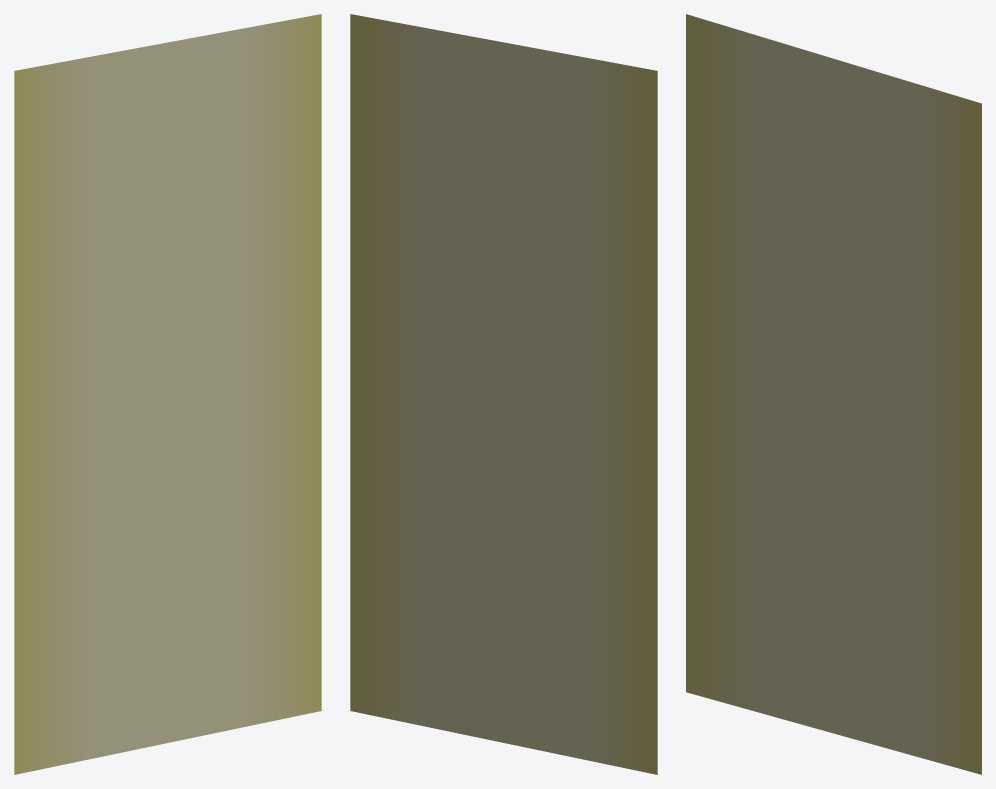
Rendered from WindowFront2.glb.
3 views of the same model, side by side, from view 1: azimuth 30°, elevation 25°; view 2: azimuth 150°, elevation 25°; view 3: azimuth 330°, elevation 25° (orthographic). The views are drawn at different scales.
Visible parts, largest first — view 1: WindowFront2; view 2: WindowFront2; view 3: WindowFront2.
Part boxes in pixels (box(x1,y1,x2,y2)): WindowFront2: box(14, 14, 321, 774); WindowFront2: box(350, 14, 657, 774); WindowFront2: box(686, 14, 981, 774).
Size of the model in its own units: 0.5709 by 1.27 by 6.1e-07.
